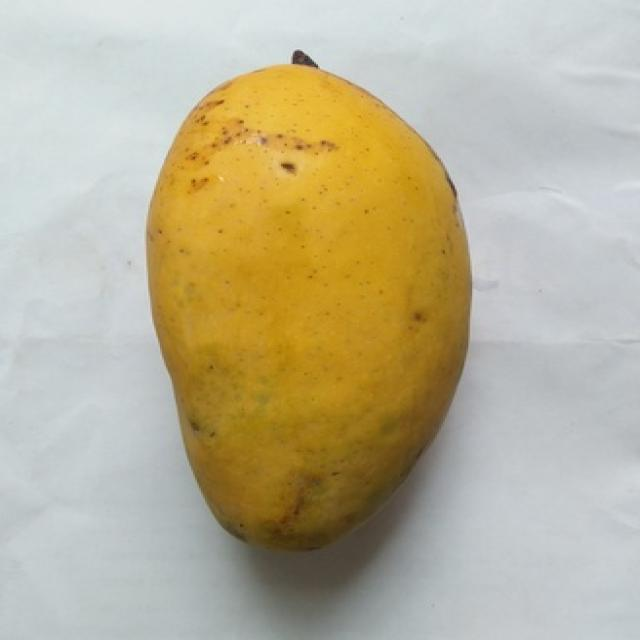Mango: (148, 65, 468, 547)
